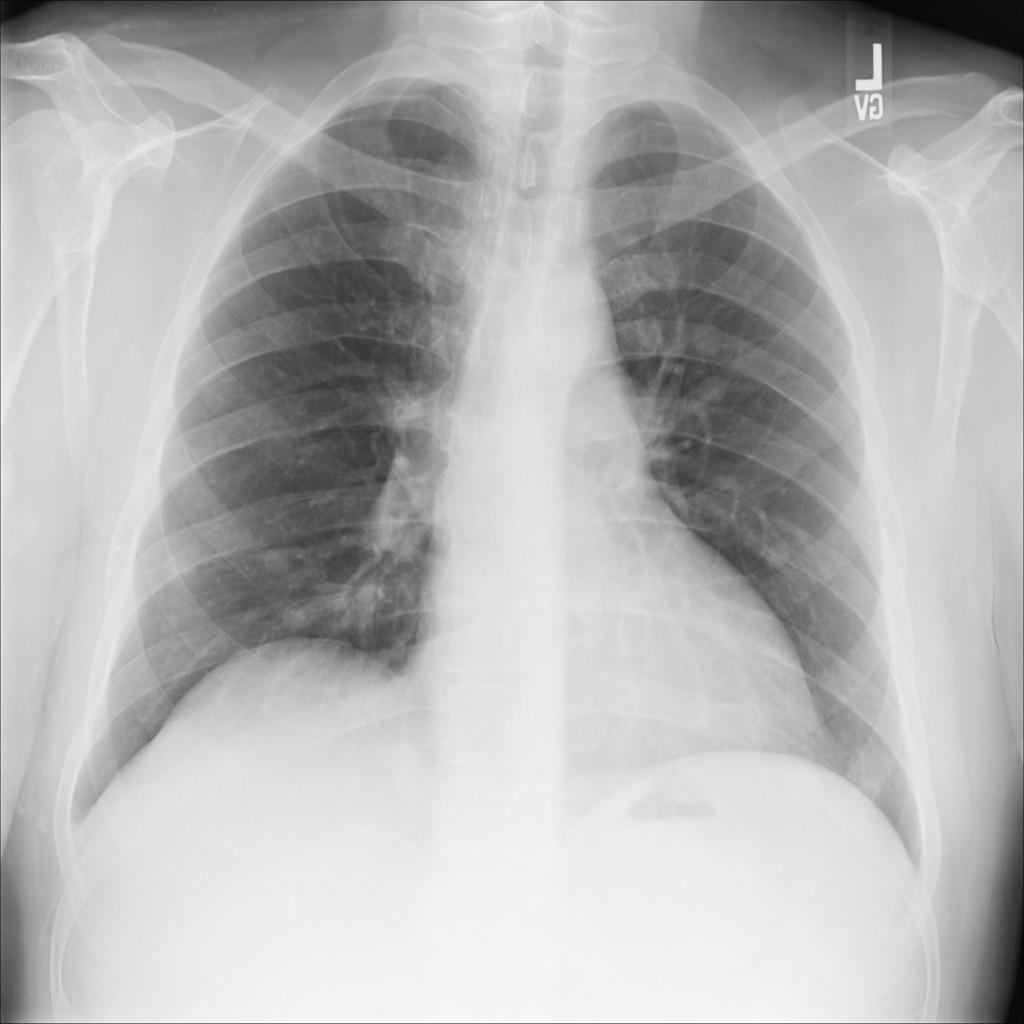nodule: (748, 514, 816, 586), (682, 355, 755, 420), (267, 594, 321, 643), (248, 535, 303, 583), (682, 315, 733, 366)
